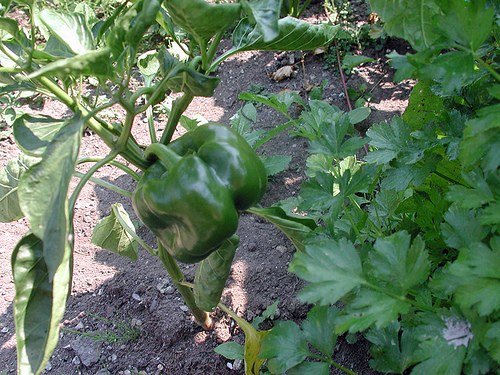capsicum: (131, 122, 268, 259)
